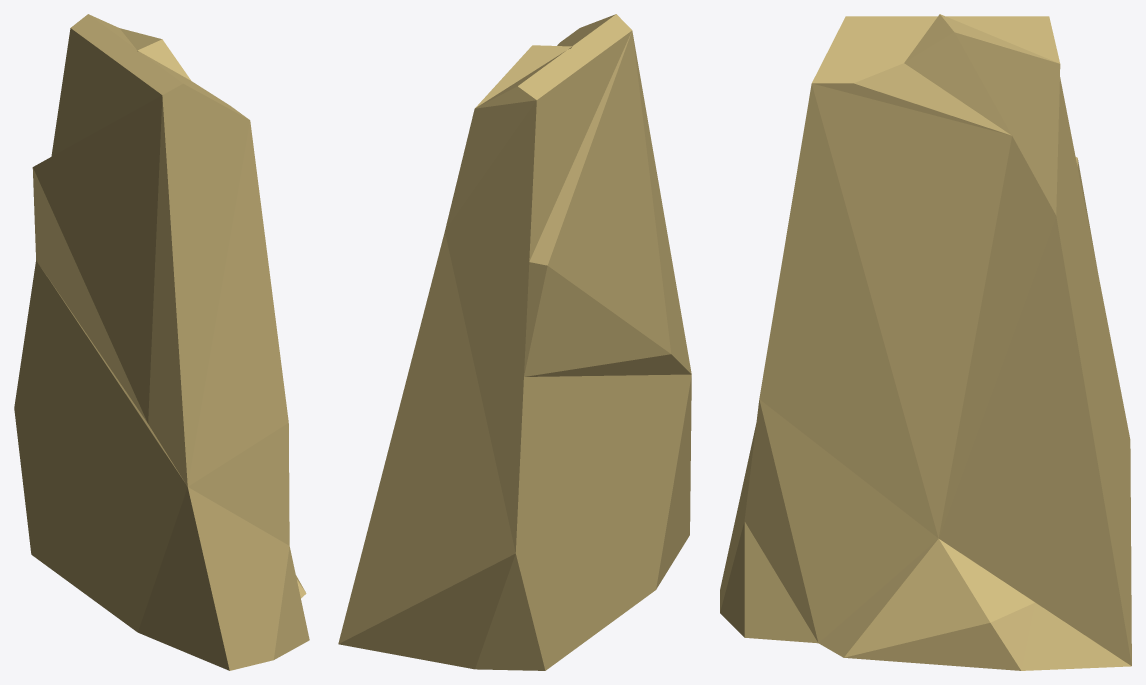
Rendered from Rock2.fbx.
3 views of the same model, side by side, from view 1: azimuth 30°, elevation 25°; view 2: azimuth 150°, elevation 25°; view 3: azimuth 270°, elevation 25° (orthographic). The views are drawn at different scales.
Visible parts, largest first — view 1: Group1; view 2: Group1; view 3: Group1.
Part boxes in pixels (x1,y1,x2,y2): Group1: (14,14,309,670); Group1: (338,14,691,670); Group1: (720,14,1131,670).
Size of the model in its own units: 3255 by 8818 by 5663.
